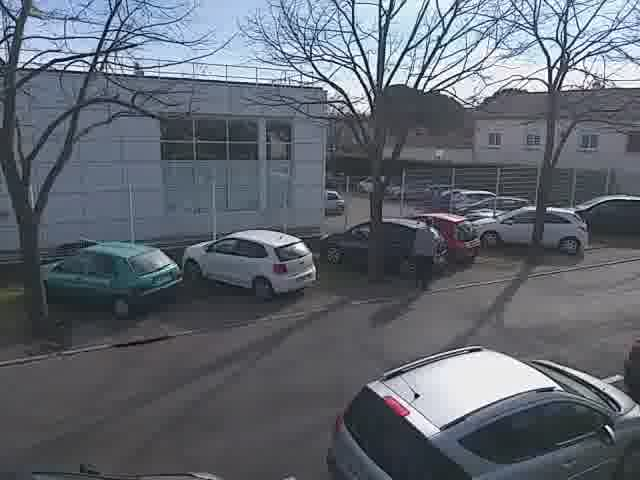persona: (405, 206, 443, 291)
